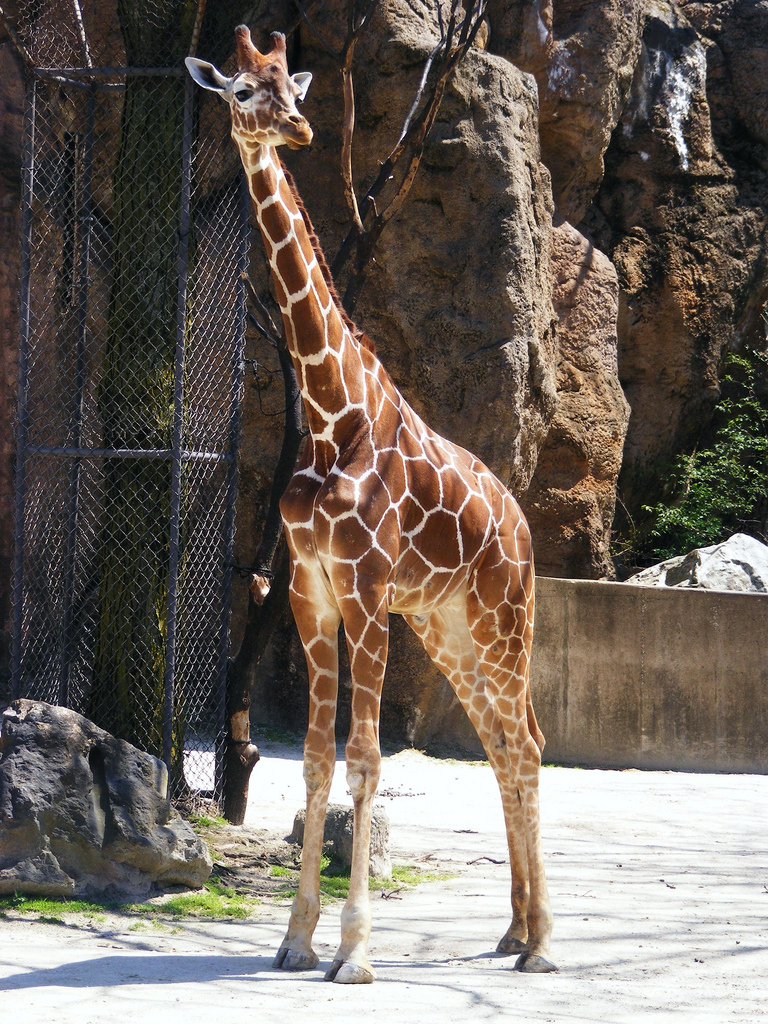giraffe: (181, 22, 605, 967)
